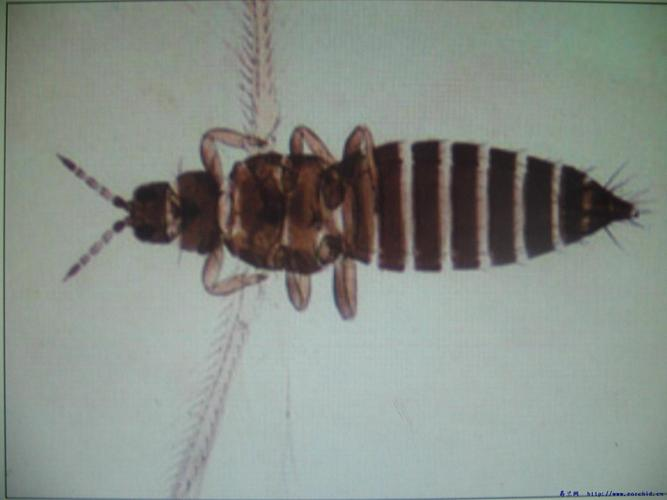Thripidae: (56, 1, 652, 493)
